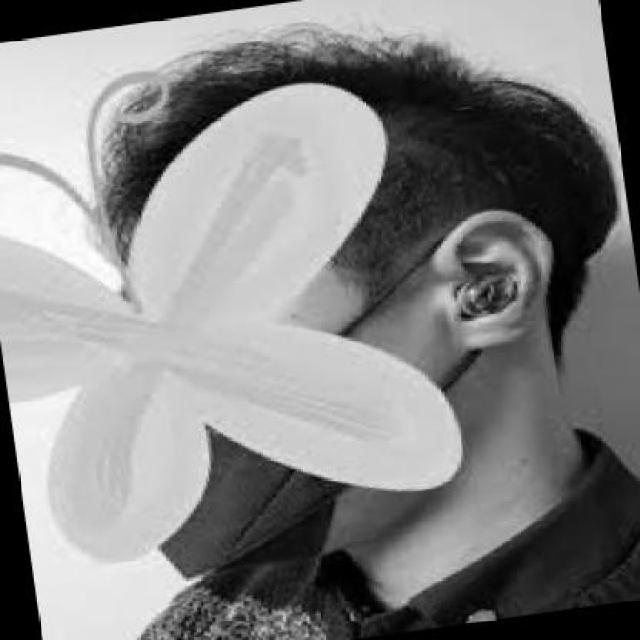earphone: (429, 217, 533, 362)
